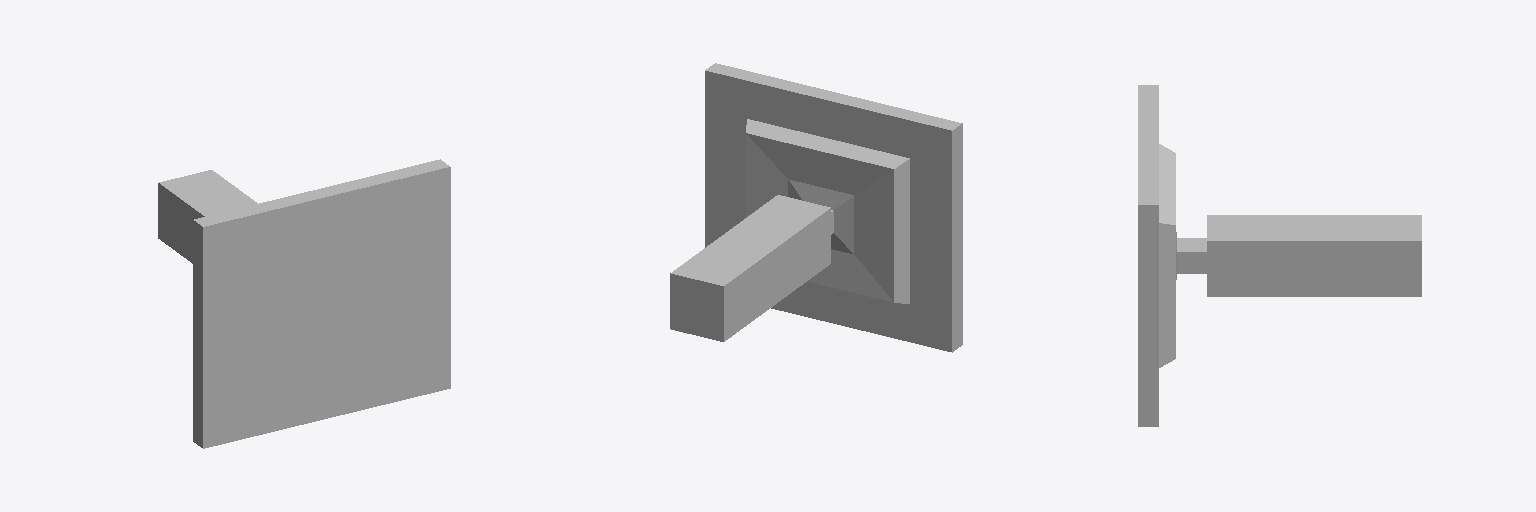
File: int_prop_piston.obj
3 renders of one model, left to right at view 1: azimuth 30°, elevation 25°; view 2: azimuth 150°, elevation 25°; view 3: azimuth 270°, elevation 25°, orthographic.
Parts seen in each view (by area): view 1: int_prop_piston:pCube1, int_prop_piston:pCube2; view 2: int_prop_piston:pCube1, int_prop_piston:pCube2; view 3: int_prop_piston:pCube2, int_prop_piston:pCube1.
Boxes of the visible parts, x1=… form: int_prop_piston:pCube1: x1=193, y1=159, x2=450, y2=448; int_prop_piston:pCube2: x1=158, y1=170, x2=257, y2=263; int_prop_piston:pCube1: x1=705, y1=63, x2=962, y2=352; int_prop_piston:pCube2: x1=670, y1=195, x2=830, y2=341; int_prop_piston:pCube2: x1=1207, y1=215, x2=1421, y2=296; int_prop_piston:pCube1: x1=1138, y1=85, x2=1206, y2=426.
Size of the model in its own units: 24.05 by 20.62 by 23.88.